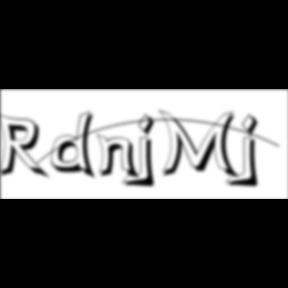M: (158, 108, 242, 181)
R: (0, 112, 54, 182)
d: (51, 110, 101, 182)
j: (134, 113, 162, 191), (240, 113, 266, 191)
n: (97, 132, 144, 181)
